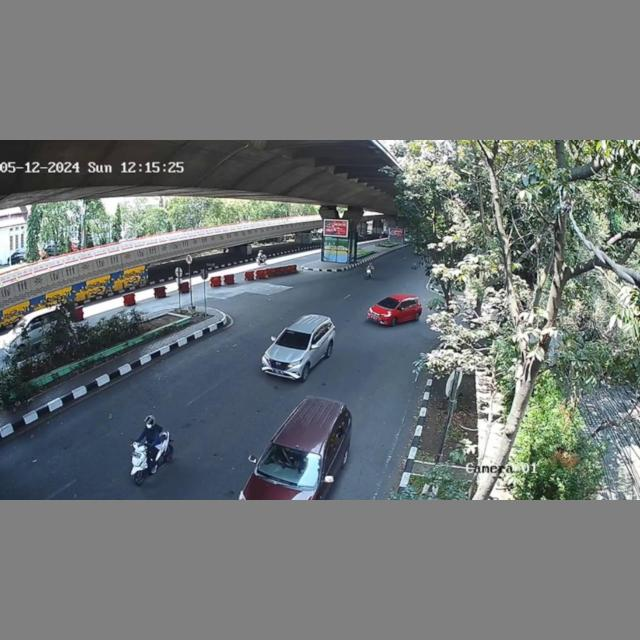windshield: (259, 441, 322, 488), (274, 329, 313, 351)
